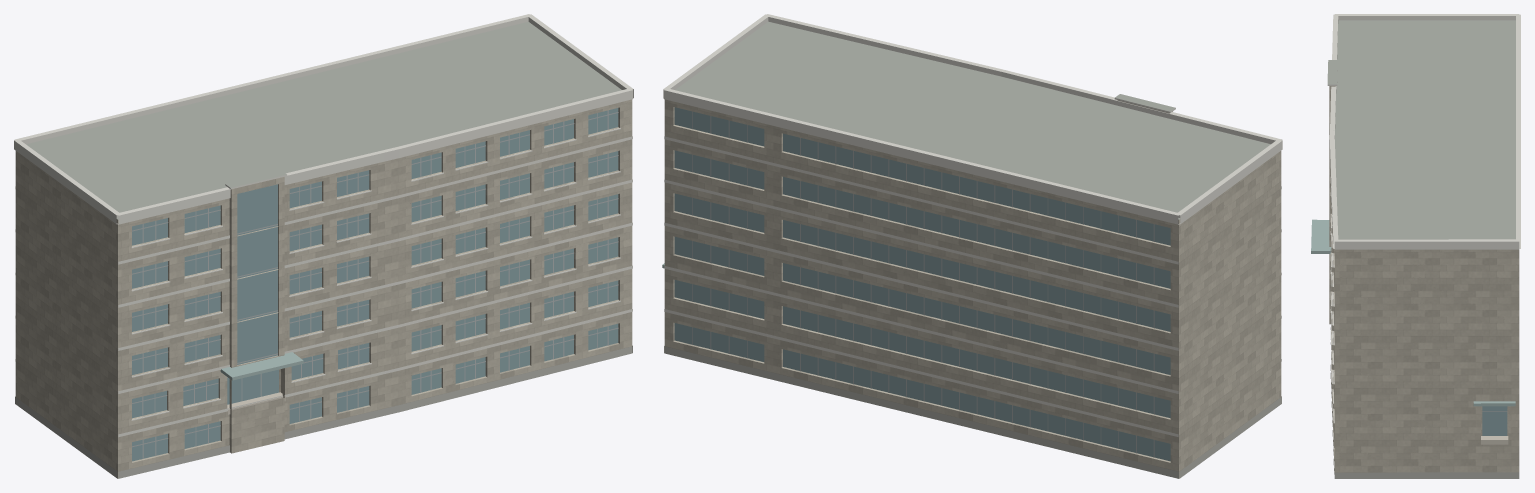
The picture shows the model from 3 angles, left to right: view 1: azimuth 30°, elevation 25°; view 2: azimuth 150°, elevation 25°; view 3: azimuth 270°, elevation 25°; orthographic projection. The views are drawn at different scales.
Parts seen in each view (by area): view 1: tamgu__wall, tamgu__roof, tamgu__glass, tamgu__trim, tamgu__frame, tamgu__base, tamgu__canopy; view 2: tamgu__wall, tamgu__glass, tamgu__roof, tamgu__trim, tamgu__base, tamgu__frame; view 3: tamgu__wall, tamgu__roof, tamgu__trim, tamgu__base, tamgu__canopy, tamgu__glass, tamgu__entranceThreshold_0.
Part boxes in pixels (bbox=[...]): tamgu__wall: bbox=[15, 99, 632, 478]; tamgu__roof: bbox=[26, 21, 621, 219]; tamgu__glass: bbox=[132, 108, 618, 461]; tamgu__trim: bbox=[14, 14, 633, 437]; tamgu__frame: bbox=[132, 110, 618, 458]; tamgu__base: bbox=[15, 345, 632, 478]; tamgu__canopy: bbox=[220, 352, 303, 380]; tamgu__wall: bbox=[664, 99, 1281, 478]; tamgu__glass: bbox=[674, 107, 1170, 461]; tamgu__roof: bbox=[675, 21, 1270, 478]; tamgu__trim: bbox=[663, 14, 1282, 436]; tamgu__base: bbox=[664, 346, 1281, 478]; tamgu__frame: bbox=[692, 111, 1154, 457]; tamgu__wall: bbox=[1329, 86, 1519, 472]; tamgu__roof: bbox=[1327, 20, 1515, 403]; tamgu__trim: bbox=[1327, 14, 1520, 440]; tamgu__base: bbox=[1330, 354, 1519, 478]; tamgu__canopy: bbox=[1311, 219, 1515, 406]; tamgu__glass: bbox=[1482, 406, 1507, 435]; tamgu__entranceThreshold_0: bbox=[1481, 436, 1508, 444].
Bounding box in the file's own units: 45.45 × 22.27 × 17.6.
10 materials, 1 textured.
